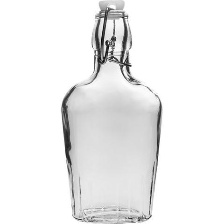bottle: (58, 0, 167, 224)
